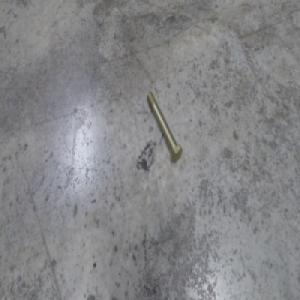Bolt: (146, 90, 183, 164)
